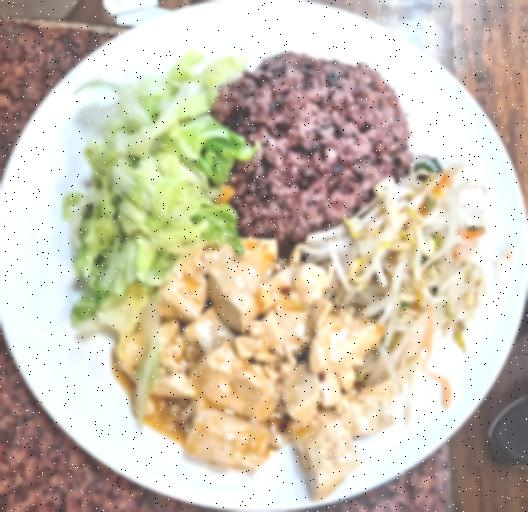plate: (0, 6, 524, 510)
purple rice: (221, 52, 416, 242)
side dish: (116, 254, 372, 476), (48, 48, 246, 319), (317, 160, 492, 407)
